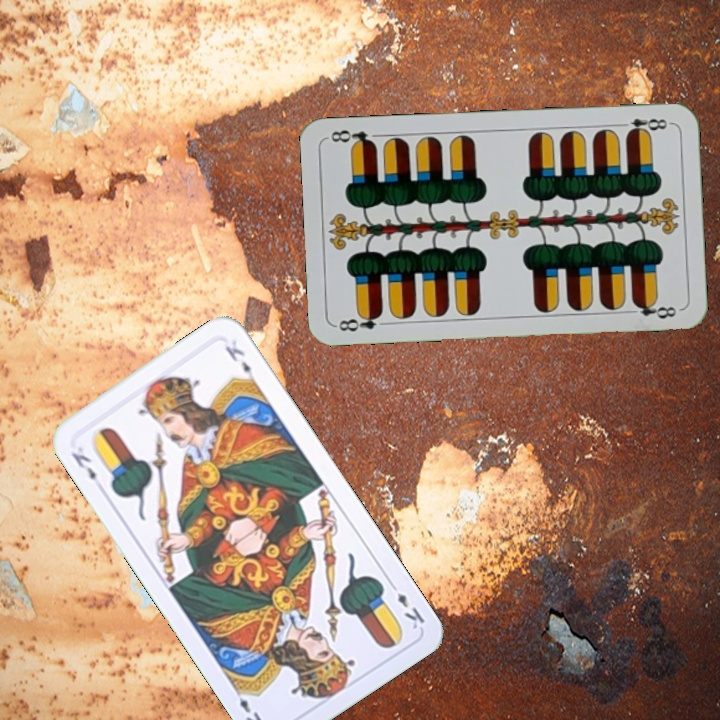E8: (614, 114, 673, 138), (333, 308, 385, 335)
EK: (385, 577, 428, 632), (67, 448, 99, 483)
